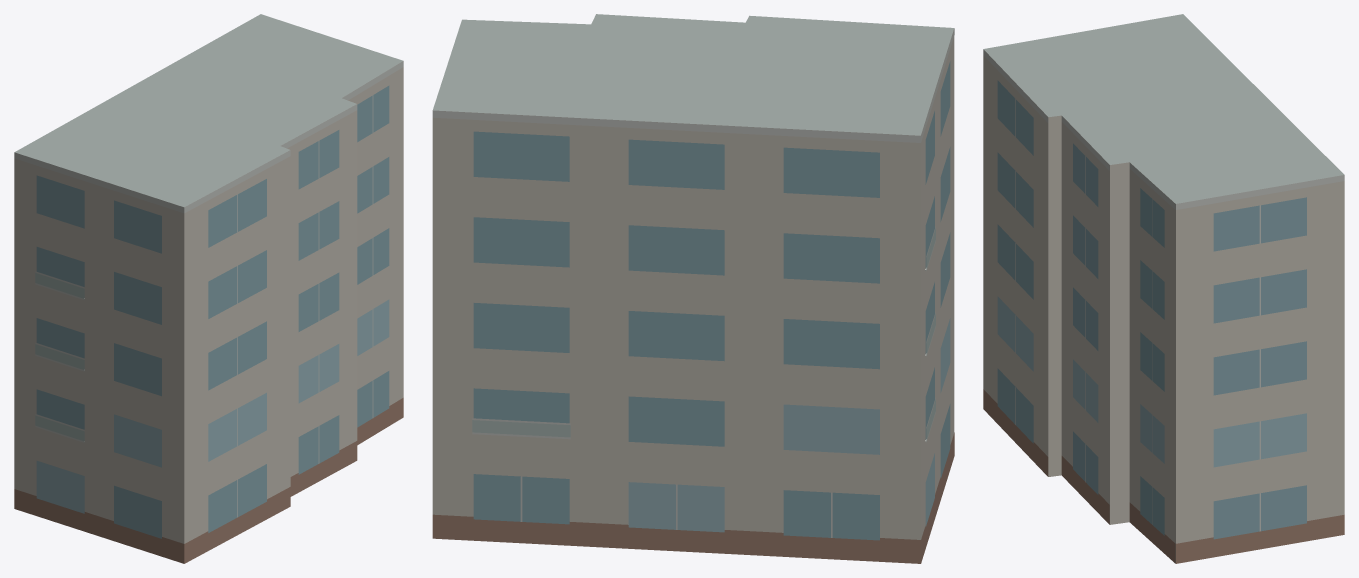
Rendered from survey-upis-32853864.glb.
The picture shows the model from 3 angles, left to right: view 1: azimuth 30°, elevation 25°; view 2: azimuth 150°, elevation 25°; view 3: azimuth 270°, elevation 25°; orthographic projection. The views are drawn at different scales.
Parts seen in each view (by area): view 1: survey-upis-32853864.tmp; view 2: survey-upis-32853864.tmp; view 3: survey-upis-32853864.tmp.
Part boxes in pixels (box(x1,y1,x2,y2)): survey-upis-32853864.tmp: box(14, 14, 403, 563); survey-upis-32853864.tmp: box(432, 14, 954, 563); survey-upis-32853864.tmp: box(983, 14, 1344, 563).
Size of the model in its own units: 16.2 by 14.3 by 13.02.
